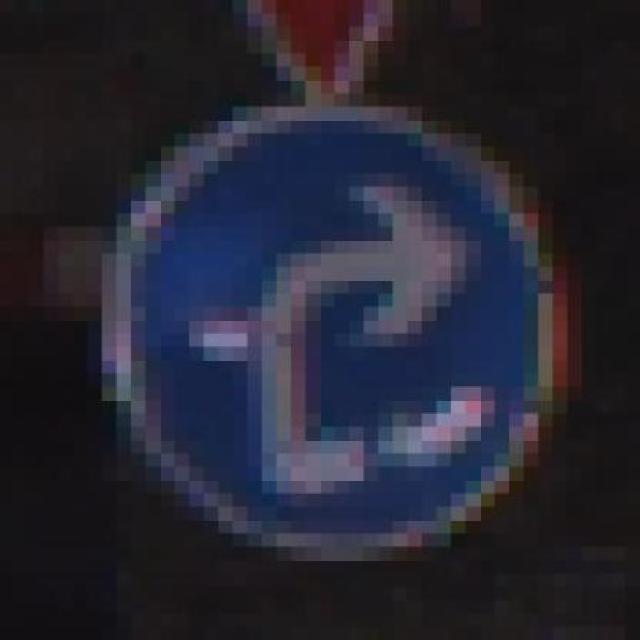Turn right ahead: (87, 53, 582, 561)
